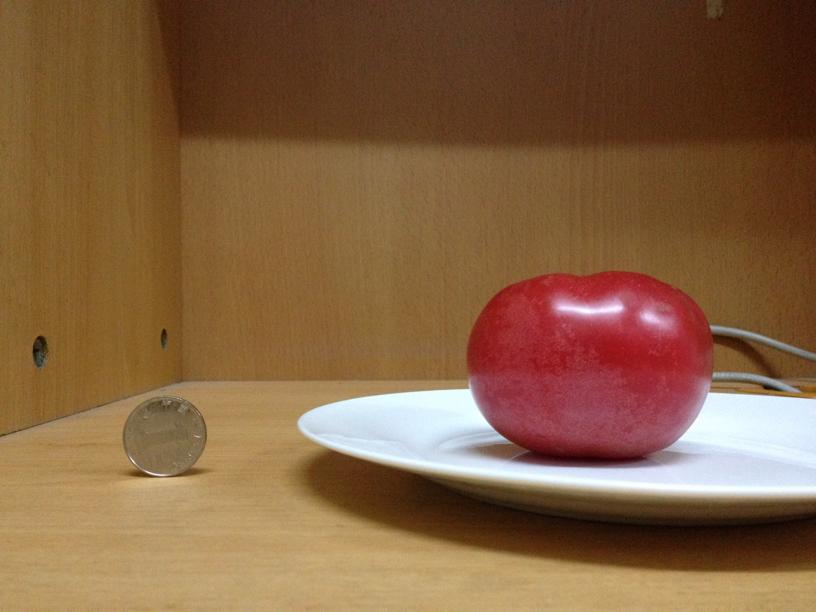coin: (119, 395, 207, 479)
tomato: (462, 269, 713, 461)
